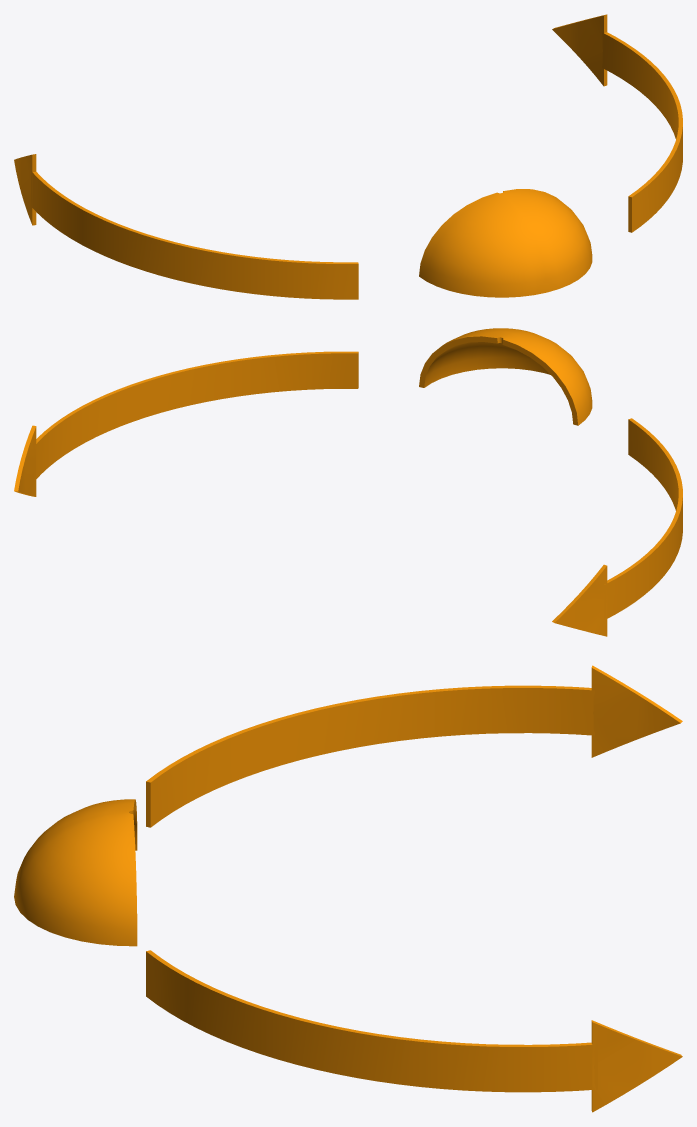
Rendered from EM_TrimYellow.obj.
The picture shows the model from 3 angles, top to bottom: view 1: azimuth 30°, elevation 25°; view 2: azimuth 150°, elevation 25°; view 3: azimuth 270°, elevation 25°; orthographic projection. The views are drawn at different scales.
Visible parts, largest first — view 1: EM_TrimYellow; view 2: EM_TrimYellow; view 3: EM_TrimYellow.
Boxes of the visible parts, x1,y1,x2,y2 form: EM_TrimYellow: (14,14,682,299); EM_TrimYellow: (14,328,682,636); EM_TrimYellow: (14,665,682,1112).
Bounding box in the file's own units: 7.89 × 1.24 × 6.17.
